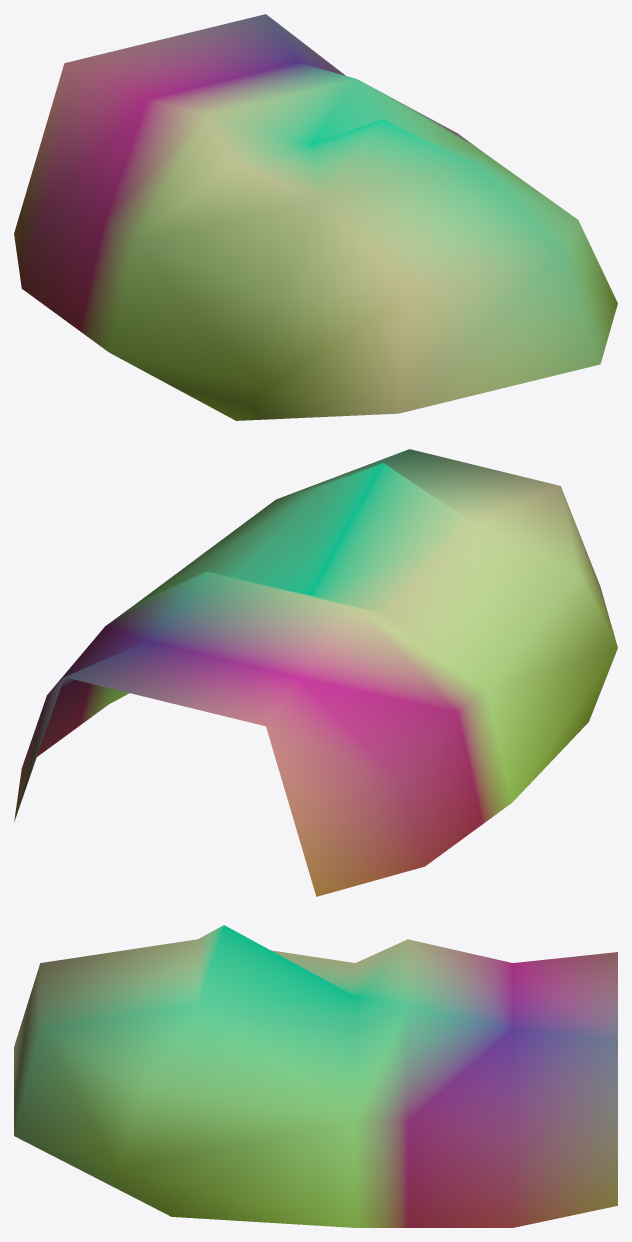
3 renders of one model, top to bottom at view 1: azimuth 30°, elevation 25°; view 2: azimuth 150°, elevation 25°; view 3: azimuth 270°, elevation 25°, orthographic. The views are drawn at different scales.
Parts seen in each view (by area): view 1: part; view 2: part; view 3: part.
Part boxes in pixels (<box>): part: <box>14,14,617,420</box>; part: <box>14,449,617,896</box>; part: <box>14,925,617,1227</box>.
Size of the model in its own units: 16 by 9 by 23.
